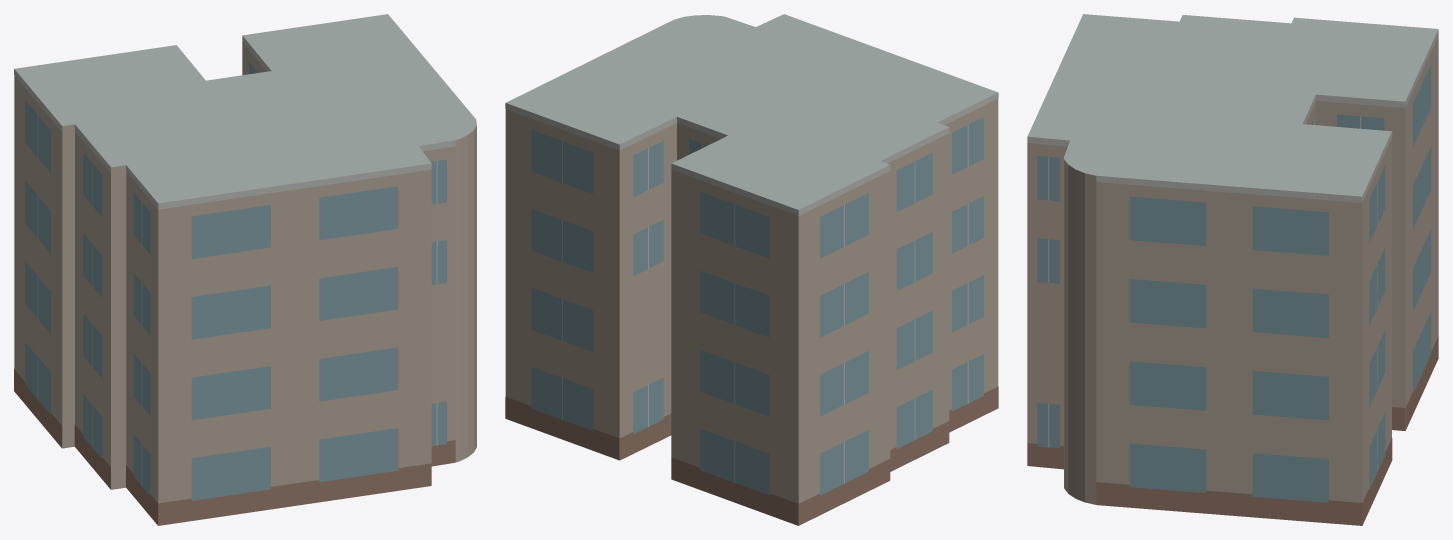
The model's file is survey-upis-33036205.glb.
3 renders of one model, left to right at view 1: azimuth 30°, elevation 25°; view 2: azimuth 150°, elevation 25°; view 3: azimuth 270°, elevation 25°, orthographic. The views are drawn at different scales.
Visible parts, largest first — view 1: survey-upis-33036205.tmp; view 2: survey-upis-33036205.tmp; view 3: survey-upis-33036205.tmp.
Boxes of the visible parts, x1=… form: survey-upis-33036205.tmp: x1=14, y1=14, x2=476, y2=525; survey-upis-33036205.tmp: x1=505, y1=14, x2=998, y2=525; survey-upis-33036205.tmp: x1=1027, y1=14, x2=1438, y2=525.
Size of the model in its own units: 15.14 by 12.72 by 14.41.
